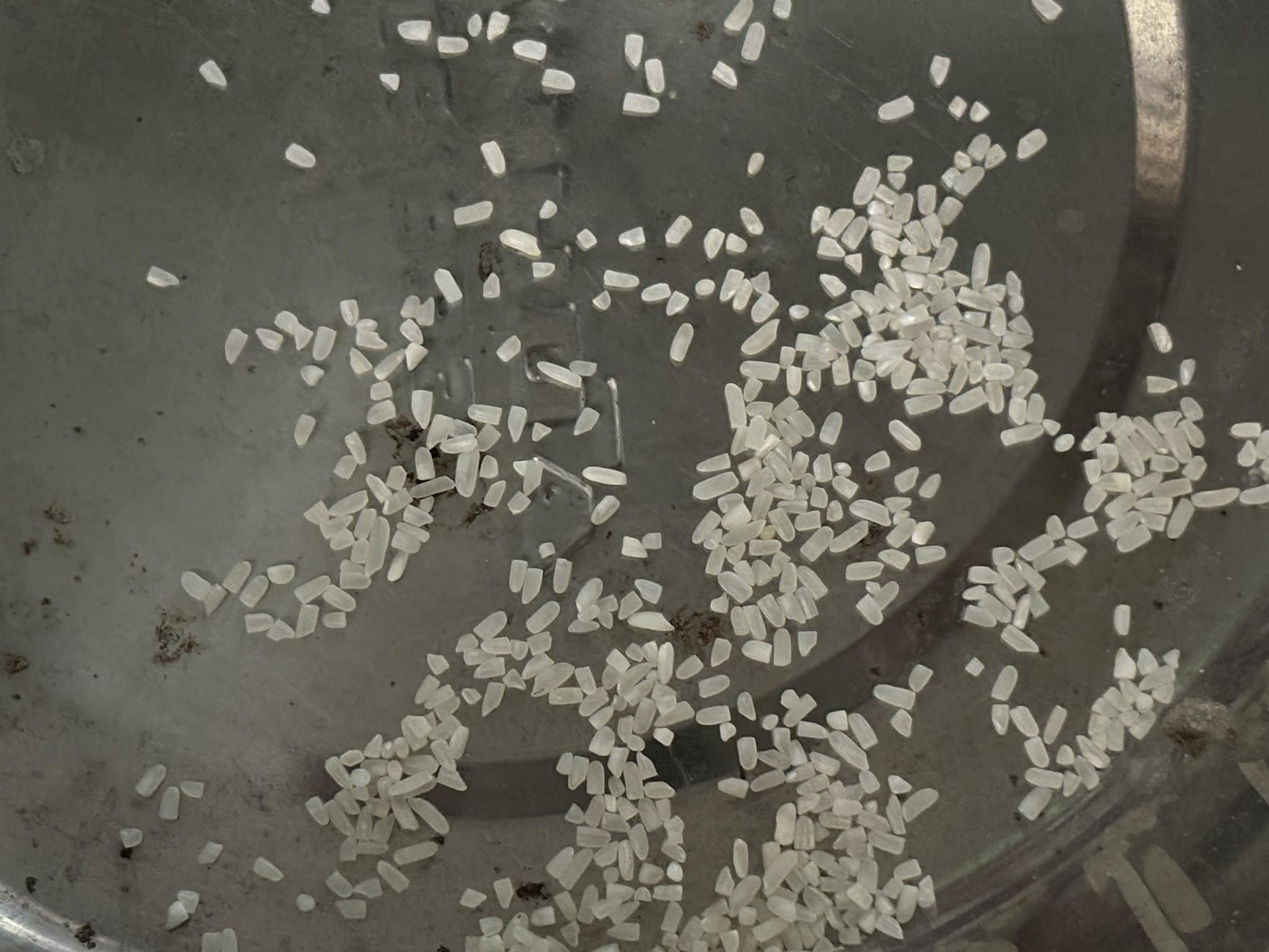Rice-th-y-nh: (827, 729, 872, 773), (407, 795, 453, 837), (362, 516, 395, 574), (760, 849, 798, 898), (1129, 414, 1169, 456), (740, 318, 781, 358), (274, 310, 314, 350), (557, 847, 593, 890), (1113, 433, 1147, 477), (727, 874, 762, 916), (614, 660, 652, 698), (771, 726, 807, 766), (828, 520, 870, 554), (533, 662, 575, 696), (692, 471, 739, 501), (387, 769, 434, 799), (799, 525, 835, 563), (901, 787, 939, 823), (536, 360, 583, 389), (1165, 497, 1196, 540), (722, 381, 749, 430), (795, 332, 839, 362), (499, 227, 542, 257), (722, 518, 766, 547), (1075, 734, 1111, 769), (717, 570, 754, 604), (851, 166, 882, 206), (956, 285, 1000, 313), (1018, 786, 1053, 821), (874, 682, 916, 711), (509, 923, 551, 952), (325, 799, 356, 838), (949, 385, 988, 416), (1000, 624, 1040, 654), (783, 694, 817, 729), (654, 700, 695, 729), (653, 641, 680, 685), (848, 712, 879, 750), (1163, 426, 1194, 464), (850, 498, 892, 526), (293, 574, 332, 604), (574, 578, 604, 617), (410, 474, 455, 500), (329, 489, 369, 518), (526, 600, 560, 634), (373, 347, 406, 382), (376, 860, 411, 893), (929, 236, 959, 274), (954, 320, 996, 347), (887, 418, 921, 451), (323, 756, 355, 791), (690, 510, 722, 545), (977, 593, 1013, 624), (797, 565, 828, 601), (433, 267, 464, 303), (1106, 509, 1142, 540), (135, 764, 167, 798), (1014, 557, 1046, 591), (472, 610, 508, 640), (767, 506, 797, 542), (454, 200, 494, 227), (990, 665, 1019, 702), (790, 815, 819, 852), (1139, 664, 1176, 693), (739, 358, 780, 384), (1151, 474, 1192, 500), (180, 570, 213, 602), (239, 574, 270, 608), (850, 288, 884, 319), (867, 829, 906, 856), (631, 696, 658, 735), (757, 593, 787, 628), (764, 450, 794, 485), (1018, 533, 1054, 562), (884, 266, 913, 302), (1115, 524, 1151, 553), (1009, 705, 1040, 738), (819, 322, 850, 355), (390, 796, 419, 831), (1032, 545, 1068, 573), (635, 797, 663, 833), (479, 681, 507, 717), (317, 512, 353, 540), (825, 299, 862, 326), (724, 0, 755, 32), (886, 517, 917, 549), (777, 593, 808, 625), (823, 207, 855, 238), (577, 686, 609, 717), (624, 677, 656, 708), (749, 292, 780, 324), (222, 561, 252, 594), (877, 95, 915, 121), (520, 567, 546, 605), (428, 714, 462, 743), (323, 584, 357, 613), (903, 219, 932, 253), (841, 216, 869, 251), (1072, 755, 1100, 790), (583, 465, 627, 487), (742, 604, 768, 641), (1016, 129, 1047, 160), (382, 487, 414, 517), (430, 740, 459, 773), (546, 846, 575, 879), (521, 651, 554, 680), (400, 717, 428, 751), (521, 458, 546, 496), (856, 809, 892, 835), (223, 328, 249, 364), (412, 446, 438, 482), (583, 760, 609, 796), (743, 415, 769, 451), (845, 559, 884, 583), (955, 166, 985, 197), (889, 359, 918, 391), (1129, 709, 1158, 741), (767, 895, 799, 924), (1131, 470, 1164, 498), (1023, 736, 1051, 769), (1010, 368, 1038, 401), (981, 380, 1008, 414), (590, 495, 620, 525), (750, 768, 786, 793), (312, 326, 337, 362), (364, 473, 393, 504), (745, 467, 774, 498), (856, 594, 885, 625), (1024, 767, 1063, 790), (1044, 705, 1067, 744), (552, 890, 579, 923), (801, 885, 828, 918), (718, 268, 744, 302), (795, 586, 821, 620), (481, 140, 507, 174), (962, 604, 997, 629), (872, 580, 900, 611), (572, 406, 600, 437), (870, 230, 901, 258), (1148, 321, 1175, 353), (615, 715, 639, 751), (386, 548, 411, 582), (819, 412, 844, 446), (869, 213, 903, 238), (325, 870, 354, 899), (873, 282, 902, 311), (774, 418, 803, 447), (928, 287, 957, 316), (996, 563, 1026, 591), (665, 215, 693, 245), (947, 360, 971, 395), (609, 899, 640, 926), (423, 684, 455, 710), (599, 810, 631, 836), (605, 745, 631, 777), (567, 755, 590, 791), (749, 489, 774, 522), (704, 543, 729, 576), (473, 656, 506, 681), (353, 508, 378, 541), (396, 520, 430, 544), (731, 278, 755, 312), (981, 360, 1015, 384), (877, 547, 911, 571), (434, 694, 462, 723), (593, 840, 622, 868), (199, 60, 228, 88), (414, 674, 441, 704), (937, 196, 964, 226), (874, 914, 905, 940), (366, 399, 397, 425), (796, 773, 831, 796), (785, 760, 817, 785), (212, 927, 244, 952), (344, 432, 368, 465), (589, 704, 616, 733), (1179, 419, 1205, 449), (304, 796, 330, 826), (391, 530, 421, 556), (675, 654, 705, 680), (1239, 482, 1269, 508), (486, 11, 511, 42), (468, 403, 503, 425), (696, 452, 731, 474), (660, 901, 684, 933), (809, 751, 841, 775), (635, 578, 663, 605), (603, 268, 639, 289), (893, 465, 920, 493), (992, 582, 1018, 611), (617, 591, 643, 620), (831, 474, 860, 500), (475, 424, 501, 453), (634, 751, 659, 781), (739, 206, 764, 236), (743, 639, 773, 664), (404, 342, 429, 372), (286, 143, 316, 168), (818, 810, 852, 832), (788, 451, 812, 482), (1149, 452, 1180, 476), (891, 193, 915, 224), (928, 55, 952, 86), (583, 796, 606, 828), (1066, 516, 1098, 539), (481, 635, 513, 658), (846, 883, 873, 910), (790, 409, 816, 437), (1080, 426, 1108, 452), (1104, 687, 1132, 713), (399, 318, 425, 346), (496, 335, 522, 363), (713, 60, 739, 88), (573, 666, 598, 695), (875, 354, 904, 379), (793, 509, 823, 533), (816, 235, 846, 259), (748, 537, 782, 558), (729, 606, 752, 637), (402, 505, 434, 527), (147, 266, 179, 288), (753, 434, 780, 460), (1179, 396, 1205, 423), (335, 789, 362, 815), (558, 920, 583, 948), (1083, 484, 1107, 513), (255, 327, 284, 351), (1001, 346, 1032, 368), (966, 565, 1000, 585), (809, 790, 835, 816), (527, 631, 553, 657), (665, 290, 690, 317), (1007, 314, 1034, 339), (483, 480, 507, 508), (864, 450, 892, 474), (1230, 420, 1262, 441), (840, 319, 863, 348), (893, 858, 922, 881), (736, 691, 758, 721), (591, 898, 621, 920), (730, 425, 751, 456), (832, 797, 863, 818), (614, 795, 639, 821), (911, 520, 936, 546), (867, 310, 893, 335), (1182, 455, 1207, 481), (733, 559, 757, 586), (660, 840, 687, 864), (1136, 648, 1160, 675), (621, 535, 648, 559), (384, 465, 408, 492), (425, 652, 451, 676), (606, 648, 630, 674), (349, 348, 373, 374), (197, 841, 223, 865), (918, 473, 942, 499), (741, 376, 764, 403), (329, 528, 356, 551), (716, 929, 743, 952), (777, 496, 808, 516), (810, 849, 838, 871), (746, 399, 774, 421), (717, 492, 745, 514), (858, 769, 882, 794), (938, 304, 965, 326), (1082, 458, 1104, 485), (619, 226, 647, 247), (568, 617, 600, 635), (825, 709, 850, 732), (749, 271, 772, 296), (460, 887, 487, 908), (882, 876, 905, 900), (874, 184, 900, 205), (884, 494, 912, 513), (564, 803, 587, 826), (508, 491, 531, 514), (702, 528, 724, 552), (726, 541, 748, 565), (503, 668, 527, 690), (809, 486, 831, 510), (363, 734, 384, 759), (802, 861, 822, 887), (1097, 409, 1118, 433), (455, 633, 480, 653), (349, 766, 371, 788), (384, 759, 404, 783), (577, 603, 601, 623), (555, 752, 575, 776), (825, 499, 845, 523), (576, 228, 598, 249), (606, 775, 626, 798), (805, 368, 824, 392), (962, 584, 987, 602), (625, 642, 646, 663), (780, 689, 801, 710), (392, 736, 411, 759), (531, 422, 552, 442), (898, 238, 918, 258), (461, 687, 482, 705), (761, 713, 780, 731)
